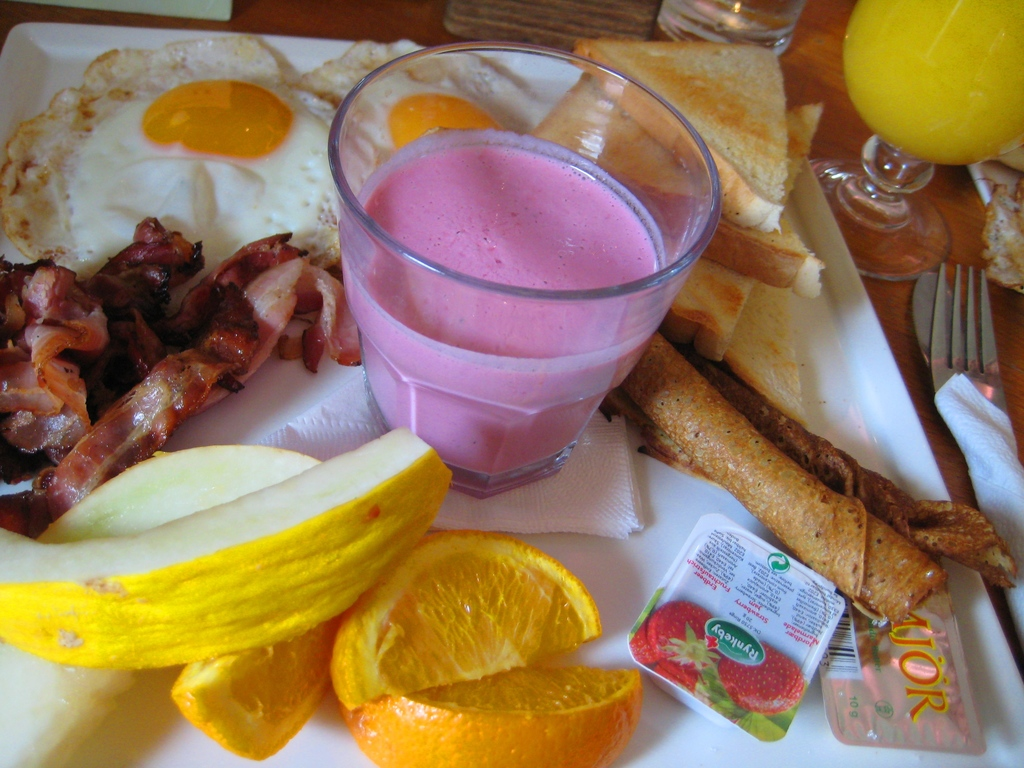Ripe: (282, 500, 611, 713)
